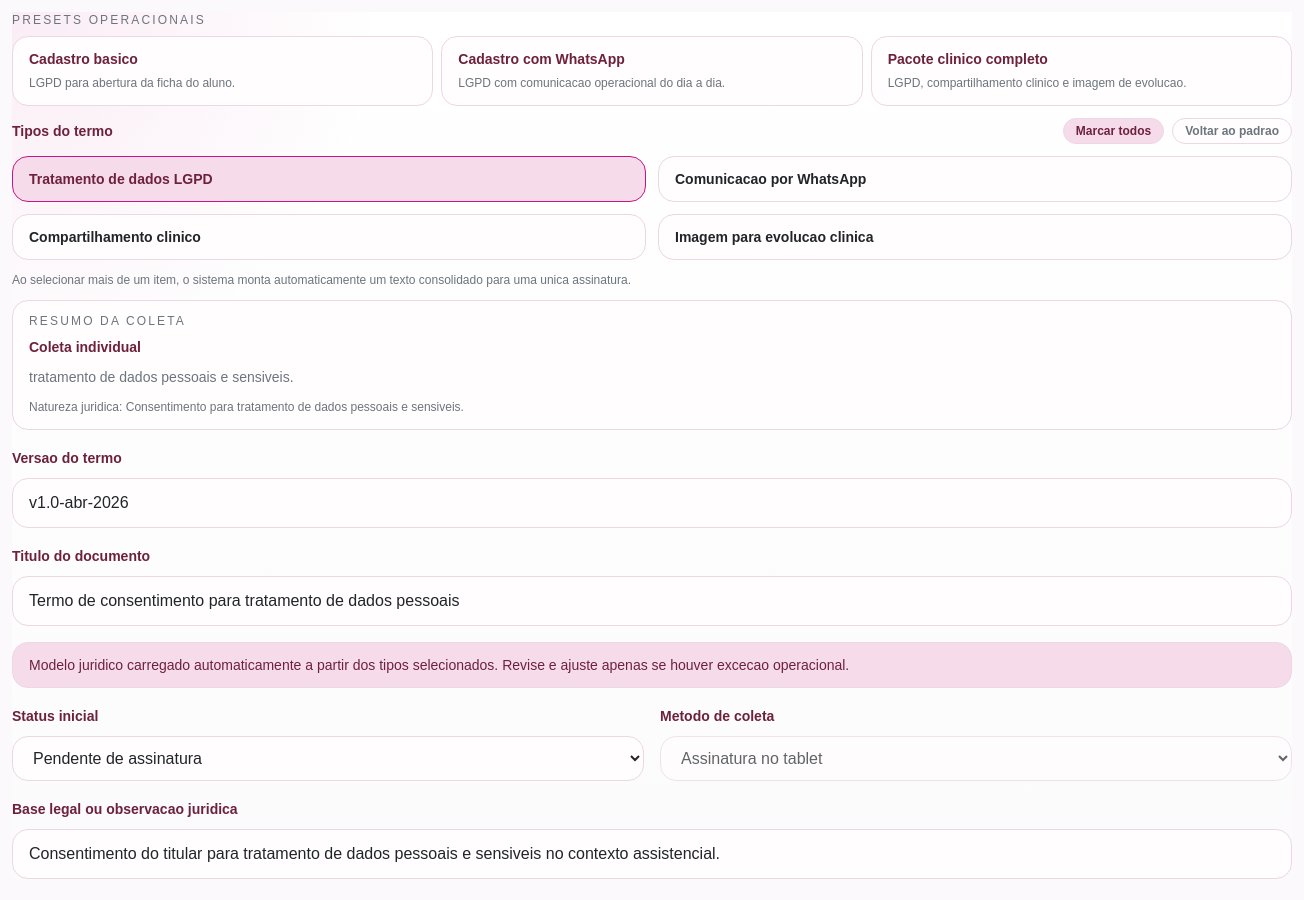
LegalAcceptanceForm › aplica o preset clinico completo com menos cliques
The width and height of the screenshot is (1304, 900).
Click the text "Pacote clinico completo" at x=968, y=59, box x1=888 y1=51 x2=1048 y2=67
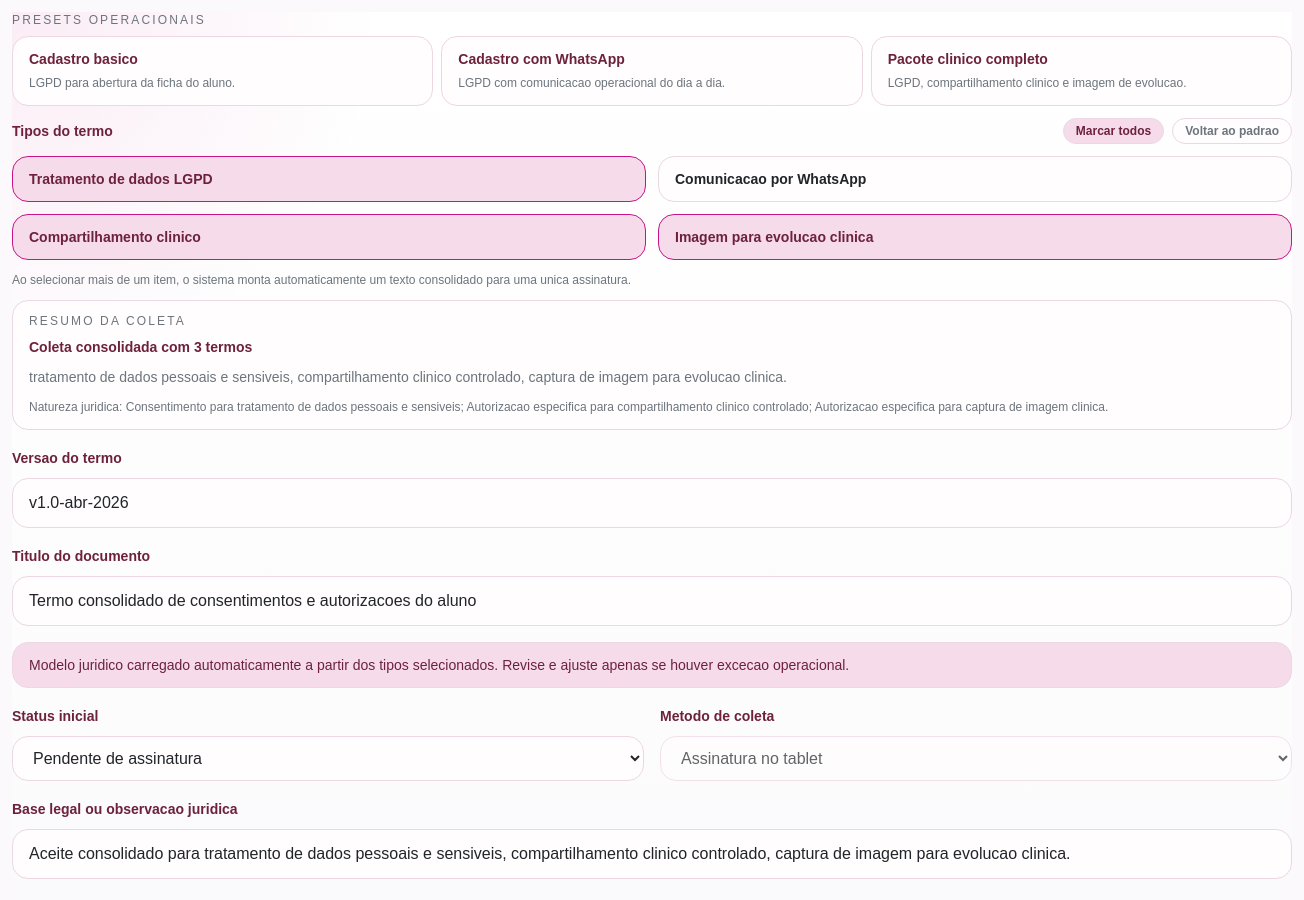
Check: the text "Coleta consolidada com 3 termos" is shown, box x1=29 y1=339 x2=252 y2=355
